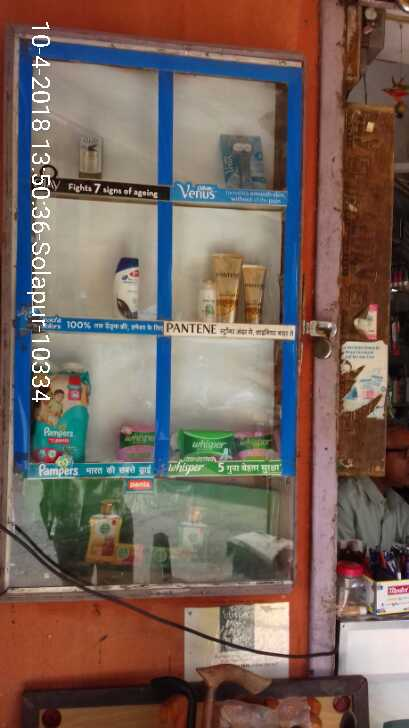venus: (221, 134, 268, 189)
